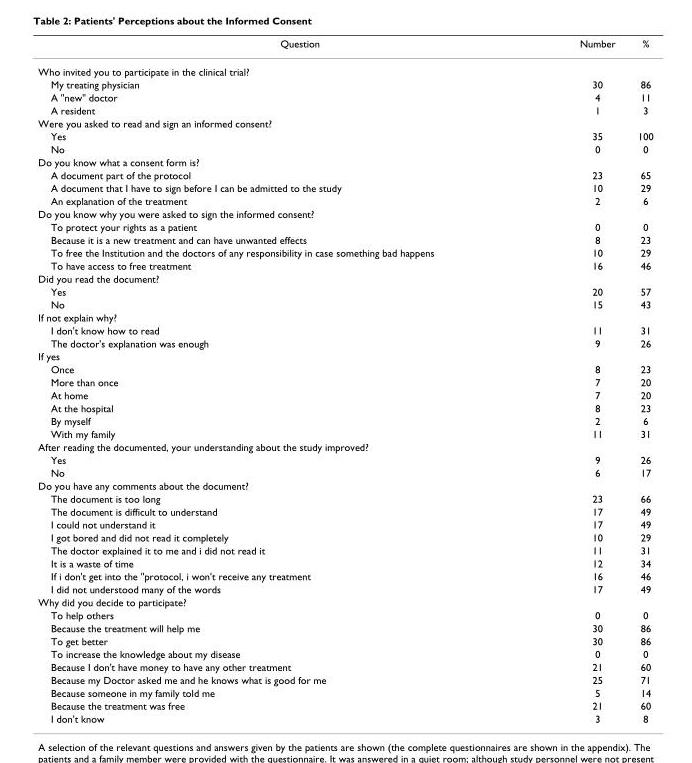table: (37, 37, 652, 724)
table column: (37, 37, 506, 724), (506, 37, 625, 724), (625, 37, 652, 724)
table column header: (37, 37, 652, 57)
table projected row header: (37, 57, 652, 77), (37, 116, 652, 129), (37, 155, 652, 168), (37, 206, 652, 219), (37, 271, 652, 284), (37, 310, 652, 323), (37, 349, 652, 362), (37, 439, 652, 452), (37, 478, 652, 491), (37, 595, 652, 608)
table row: (37, 37, 652, 57), (37, 57, 652, 77), (37, 77, 652, 90), (37, 90, 652, 103), (37, 103, 652, 116), (37, 116, 652, 129), (37, 129, 652, 142), (37, 142, 652, 155), (37, 155, 652, 168), (37, 168, 652, 181), (37, 181, 652, 194), (37, 206, 652, 219), (37, 219, 652, 232), (37, 232, 652, 245), (37, 245, 652, 258), (37, 258, 652, 271), (37, 271, 652, 284), (37, 284, 652, 297), (37, 297, 652, 310), (37, 310, 652, 323), (37, 323, 652, 336), (37, 336, 652, 349), (37, 349, 652, 362), (37, 362, 652, 375), (37, 375, 652, 388), (37, 388, 652, 401), (37, 401, 652, 414), (37, 426, 652, 439), (37, 439, 652, 452), (37, 452, 652, 465), (37, 465, 652, 478), (37, 478, 652, 491), (37, 491, 652, 504), (37, 504, 652, 517), (37, 517, 652, 530), (37, 530, 652, 543), (37, 543, 652, 556), (37, 556, 652, 569), (37, 569, 652, 582), (37, 582, 652, 595), (37, 595, 652, 608), (37, 608, 652, 621), (37, 621, 652, 634), (37, 634, 652, 647), (37, 659, 652, 672), (37, 672, 652, 685), (37, 685, 652, 698), (37, 698, 652, 711), (37, 711, 652, 724), (37, 194, 652, 206), (37, 414, 652, 426), (37, 647, 652, 659)
